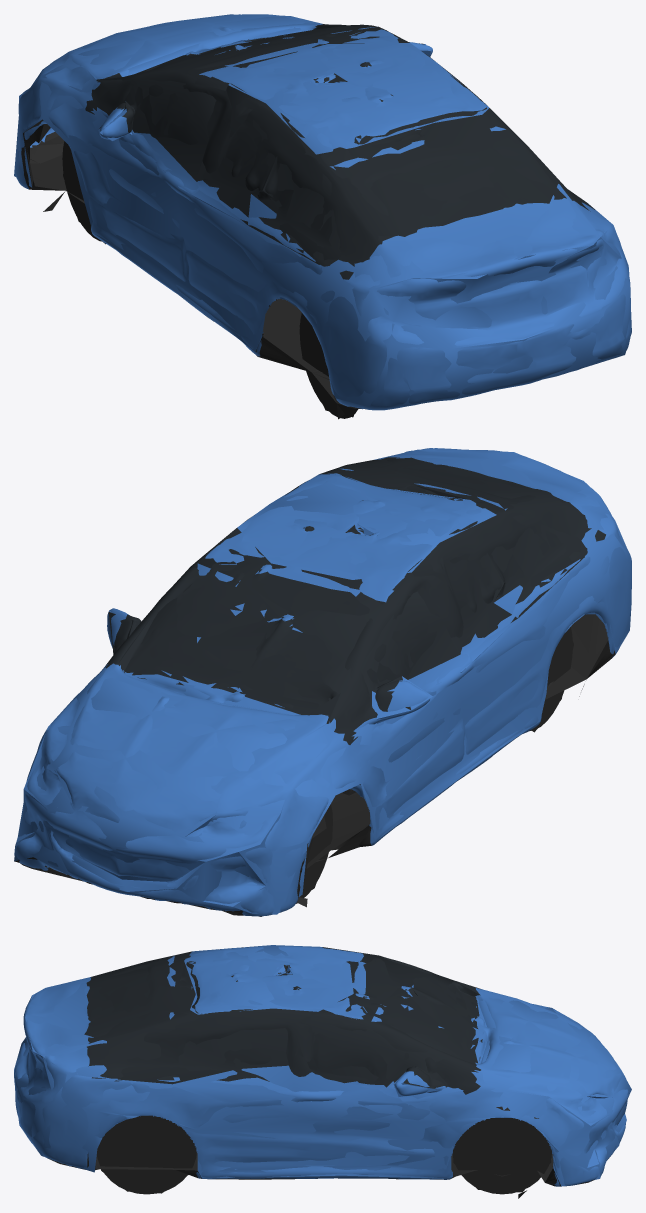
Rendered from chevrolet-volt.glb.
3 renders of one model, top to bottom at view 1: azimuth 30°, elevation 25°; view 2: azimuth 150°, elevation 25°; view 3: azimuth 270°, elevation 25°, orthographic. The views are drawn at different scales.
Parts seen in each view (by area): view 1: body, far; view 2: body, far; view 3: body, far.
Boxes of the visible parts, x1,y1,x2,y2 form: body: [15, 14, 631, 418]; far: [14, 14, 631, 417]; body: [14, 448, 631, 916]; far: [14, 449, 631, 914]; body: [14, 946, 629, 1198]; far: [14, 945, 631, 1193].
Size of the model in its own units: 2.13 by 1.52 by 4.65.
